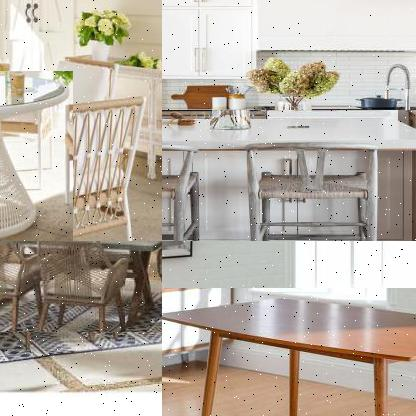table: (162, 110, 415, 240), (162, 288, 415, 415), (0, 241, 161, 334), (0, 71, 74, 240)
